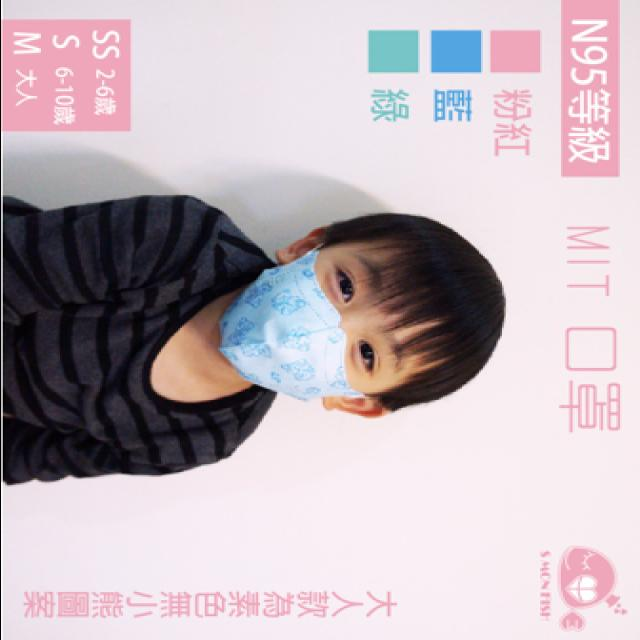with_mask: (218, 243, 410, 400)
